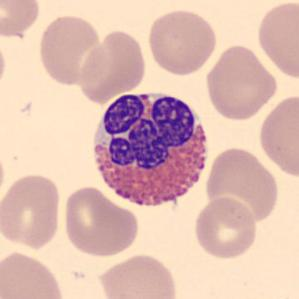Eosinophil: (85, 82, 217, 218)
RBC: (204, 144, 282, 227), (203, 43, 280, 122), (60, 184, 142, 258), (76, 28, 149, 103), (0, 170, 64, 252), (145, 6, 219, 76), (36, 12, 104, 88), (191, 194, 259, 262), (95, 251, 181, 299), (255, 91, 299, 179), (254, 0, 298, 82), (0, 248, 67, 299), (0, 0, 42, 39), (0, 36, 8, 91), (0, 146, 7, 207)
